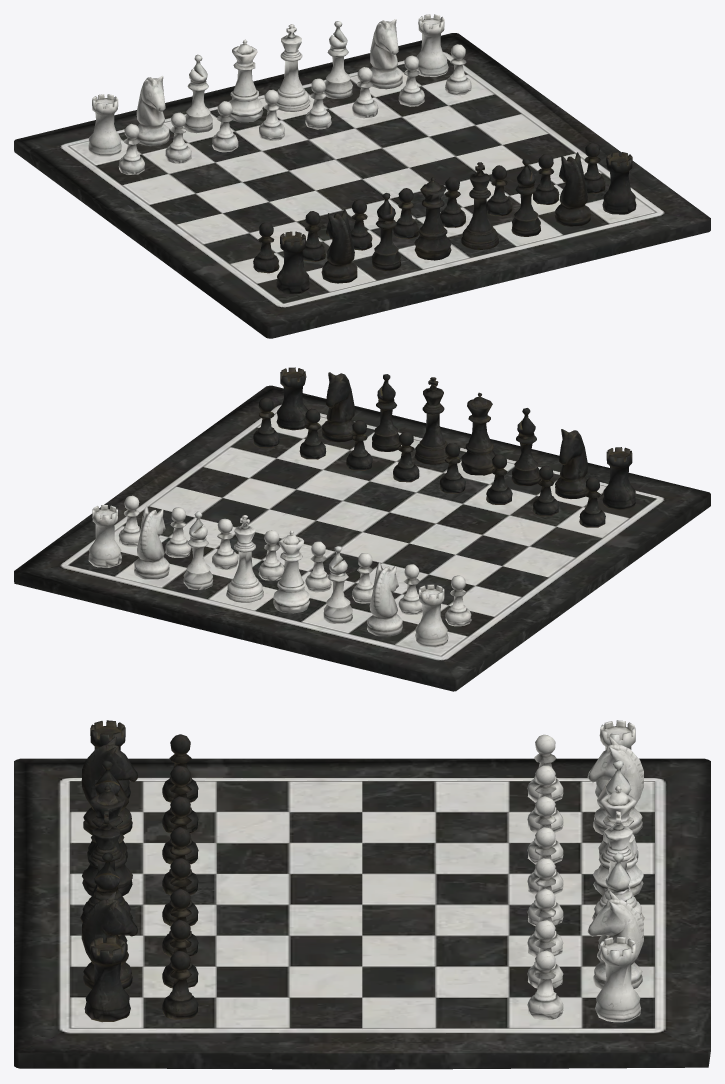
File: chess-set.8070774094.glb
The picture shows the model from 3 angles, top to bottom: view 1: azimuth 30°, elevation 25°; view 2: azimuth 150°, elevation 25°; view 3: azimuth 270°, elevation 25°; orthographic projection. The views are drawn at different scales.
Visible parts, largest first — view 1: board, piece_rook_black_01, piece_rook_white_01, piece_king_black, piece_king_white; view 2: board, piece_rook_white_01, piece_rook_black_01, piece_king_white, piece_king_black; view 3: board, piece_rook_black_01, piece_rook_white_01, piece_king_white, piece_king_black.
Part boxes in pixels (box(x1,y1,x2,y2)): board: box(14, 33, 710, 338); piece_rook_black_01: box(253, 142, 636, 294); piece_rook_white_01: box(88, 14, 471, 174); piece_king_black: box(461, 162, 498, 249); piece_king_white: box(276, 24, 310, 111); board: box(14, 385, 710, 691); piece_rook_white_01: box(88, 495, 471, 647); piece_rook_black_01: box(253, 367, 635, 527); piece_king_white: box(226, 515, 263, 602); piece_king_black: box(414, 377, 447, 464); board: box(14, 758, 710, 1069); piece_rook_black_01: box(81, 720, 198, 1022); piece_rook_white_01: box(527, 720, 643, 1022); piece_king_white: box(592, 811, 644, 920); piece_king_black: box(80, 811, 132, 922).
Bounding box in the file's own units: 0.5526 × 0.1115 × 0.5519.
Materials: 3 (3 with a texture image).
